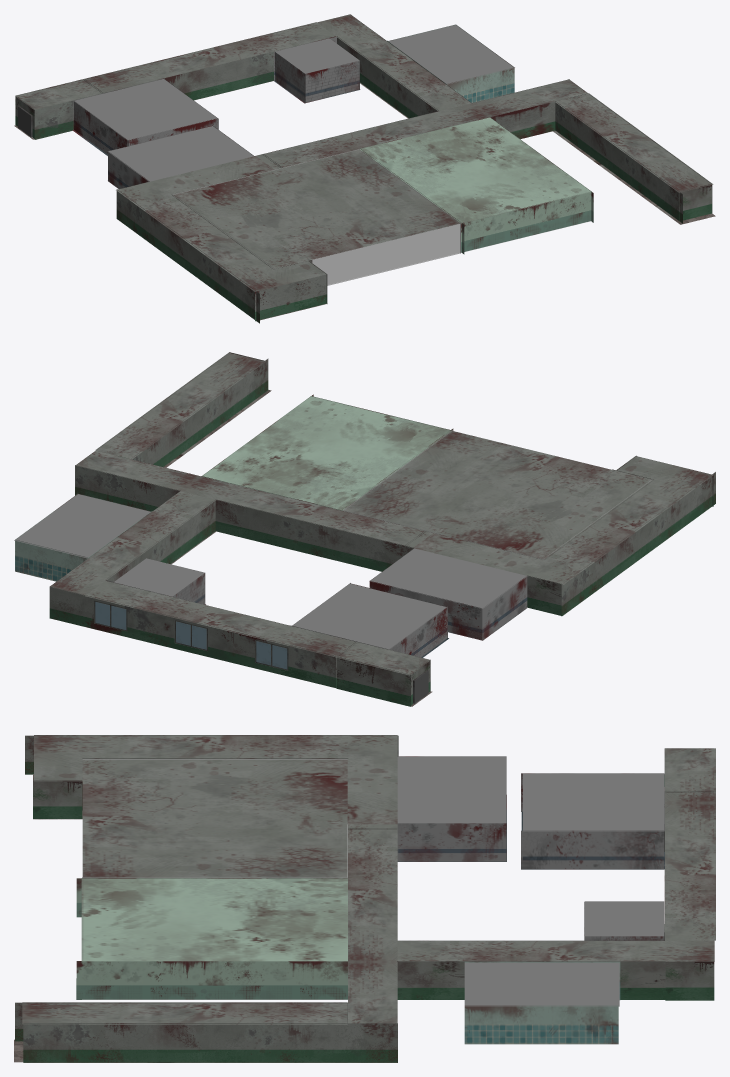
File: 1S_All_0816.fbx
3 renders of one model, top to bottom at view 1: azimuth 30°, elevation 25°; view 2: azimuth 150°, elevation 25°; view 3: azimuth 270°, elevation 25°, orthographic. The views are drawn at different scales.
Visible parts, largest first — view 1: 1S_HallwayCeiling (×5), 1S_HallwayWall (×8), 1S_Bigroom2Ceiling, 1S_Bigroom1Ceiling, 1S_StartRoomCeiling, 1S_EXRoomCeiling, 1S_Bigroom2Wall, 1S_ToiletCeiling, 1S_Bigroom1Wall, 1S_WarehouseWall (×2), 1S_StartRoomWall (×2), 1S_WarehouseCeiling (+3 smaller); view 2: 1S_HallwayCeiling (×5), 1S_HallwayWall (×8), 1S_Bigroom2Ceiling, 1S_Bigroom1Ceiling, 1S_StartRoomCeiling, 1S_EXRoomCeiling, 1S_ToiletCeiling, 1S_EXRoomWall (×2), 1S_HallwayWall_Window001, 1S_WarehouseCeiling, 1S_ToiletWall, 1S_StartRoomWall (+1 smaller); view 3: 1S_HallwayCeiling (×5), 1S_Bigroom2Ceiling, 1S_HallwayWall (×6), 1S_Bigroom1Ceiling, 1S_Bigroom1Wall, 1S_StartRoomCeiling, 1S_EXRoomCeiling, 1S_ToiletCeiling, 1S_ToiletWall, 1S_StartRoomWall, 1S_EXRoomWall, 1S_WarehouseCeiling (+1 smaller).
Part boxes in pixels (x1,y1,x2,y2): 1S_HallwayCeiling (×5): (15,14,713,291); 1S_HallwayWall (×8): (34,36,711,323); 1S_Bigroom2Ceiling: (173,149,460,268); 1S_Bigroom1Ceiling: (360,117,591,223); 1S_StartRoomCeiling: (74,79,217,140); 1S_EXRoomCeiling: (108,126,253,181); 1S_Bigroom2Wall: (275,224,460,285); 1S_ToiletCeiling: (388,24,514,84); 1S_Bigroom1Wall: (461,191,591,252); 1S_WarehouseWall (×2): (275,52,359,102); 1S_StartRoomWall (×2): (74,101,217,154); 1S_WarehouseCeiling: (275,38,359,73); 1S_HallwayCeiling (×5): (50,352,713,675); 1S_HallwayWall (×8): (49,358,715,706); 1S_Bigroom2Ceiling: (343,431,652,559); 1S_Bigroom1Ceiling: (202,396,451,510); 1S_StartRoomCeiling: (292,583,446,649); 1S_EXRoomCeiling: (370,548,527,608); 1S_ToiletCeiling: (14,494,150,558); 1S_EXRoomWall (×2): (369,576,527,640); 1S_HallwayWall_Window001: (95,602,287,669); 1S_WarehouseCeiling: (114,558,204,596); 1S_ToiletWall: (15,540,87,581); 1S_StartRoomWall: (389,606,447,657); 1S_HallwayCeiling (×5): (22,735,715,1024); 1S_Bigroom2Ceiling: (82,759,347,878); 1S_HallwayWall (×6): (15,735,714,1062); 1S_Bigroom1Ceiling: (81,878,347,961); 1S_Bigroom1Wall: (76,961,347,999); 1S_StartRoomCeiling: (523,773,664,831); 1S_EXRoomCeiling: (397,756,506,823); 1S_ToiletCeiling: (464,962,619,1006); 1S_ToiletWall: (464,1005,618,1044); 1S_StartRoomWall: (521,830,664,869); 1S_EXRoomWall: (397,823,506,861); 1S_WarehouseCeiling: (585,901,664,936).
Bounding box in the file's own units: 987 × 63.31 × 1012.
